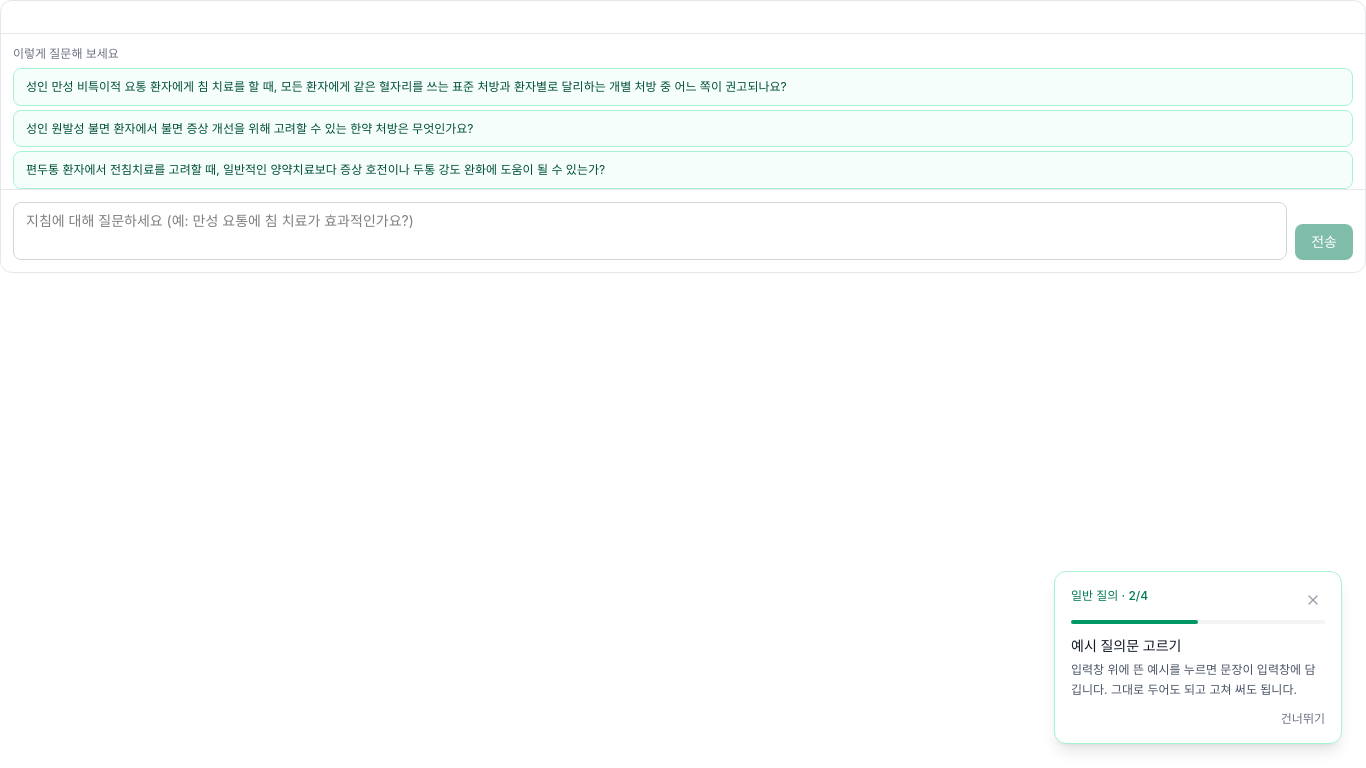
예시 질의문과 전송이 다음 단계를 넘긴다 › 예시를 고르면 전송 단계로, 보내면 답변 단계로 넘어간다
This screenshot has width=1366, height=768.
Click the 1st button: click(683, 87) top-left (13, 68), bottom-right (1353, 106)
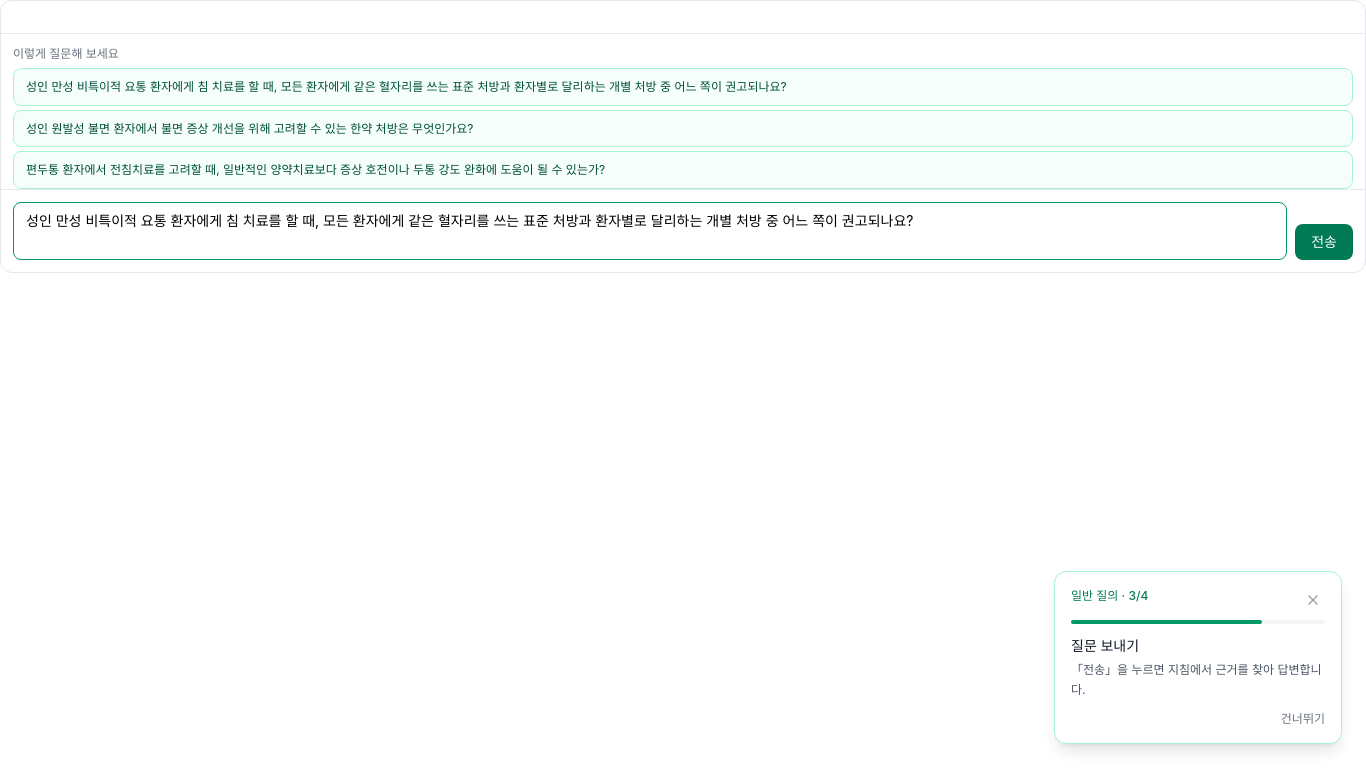
Check: the text "질문 보내기" is shown, box top-left (1071, 637), bottom-right (1139, 654)
Click the button "전송": click(1324, 242) top-left (1295, 224), bottom-right (1353, 260)
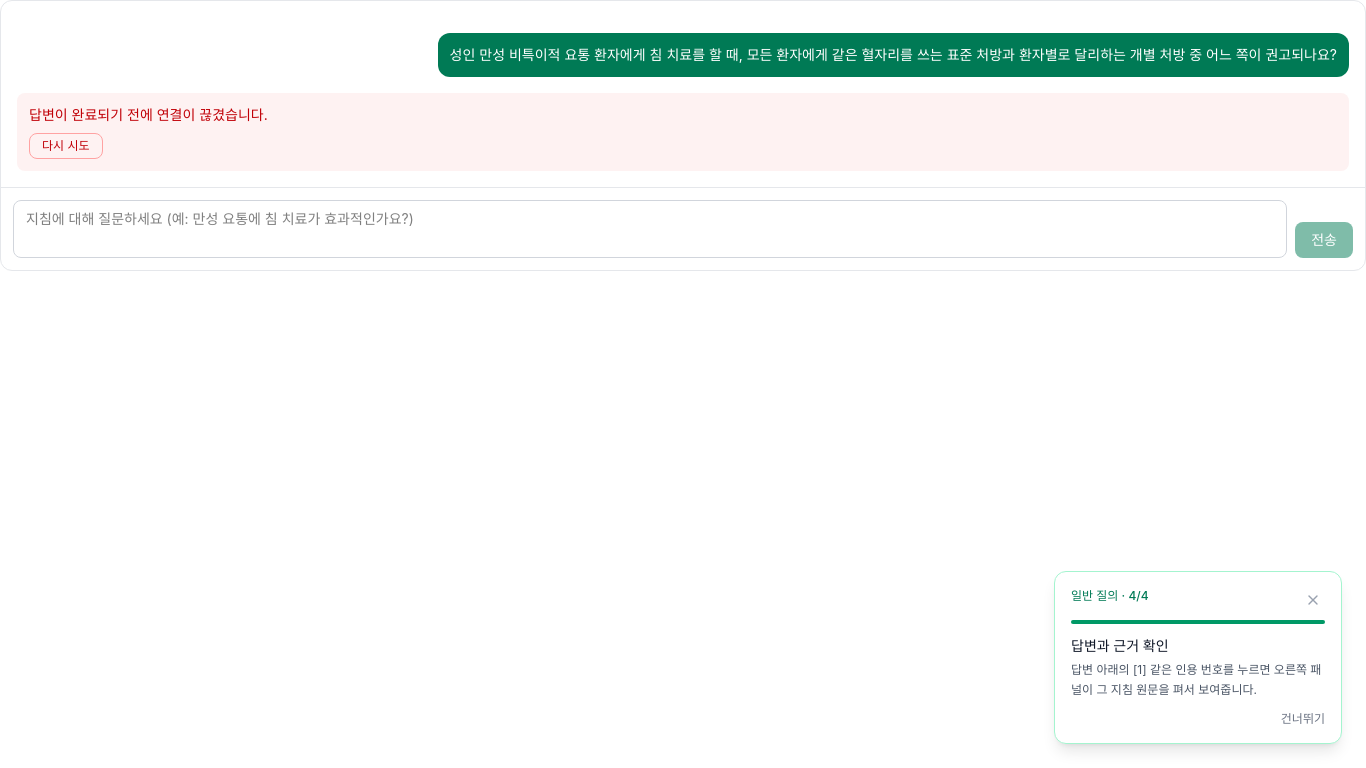
Check: the text "답변과 근거 확인" is shown, box top-left (1071, 637), bottom-right (1169, 654)
